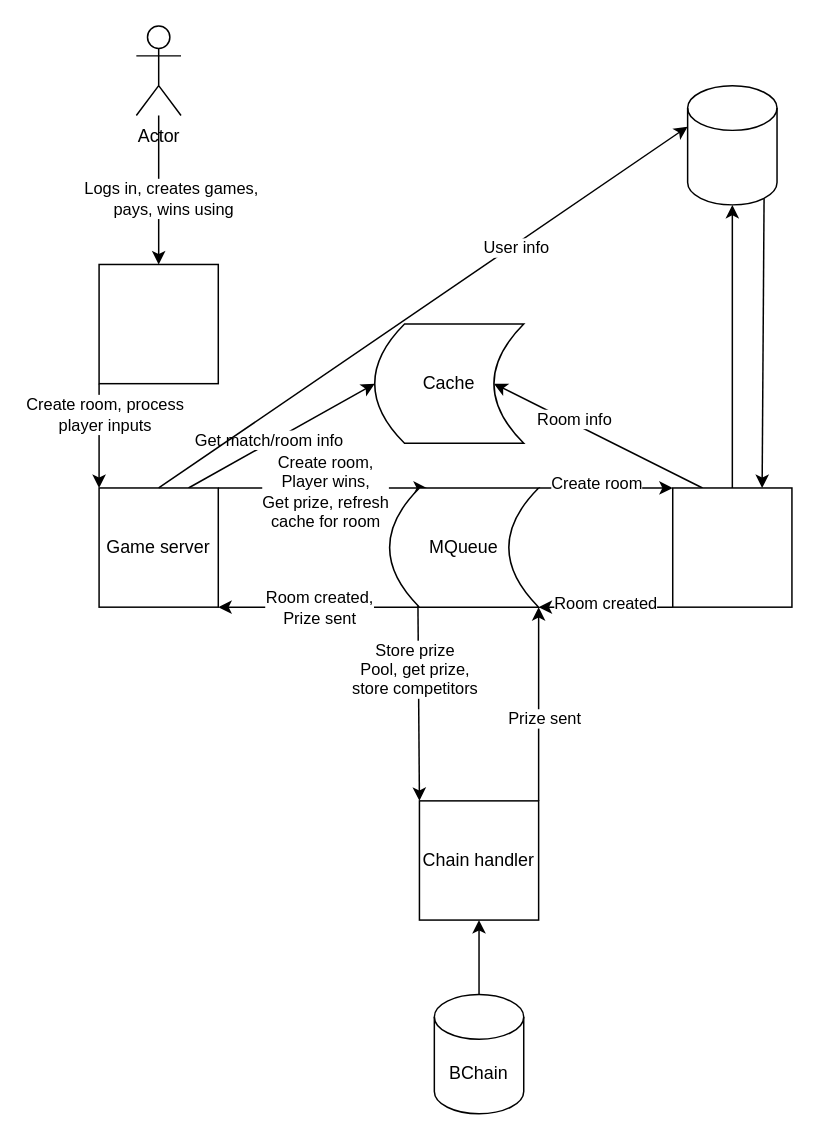
Some shapes in this 818 by 1140 pixel diagram are drawn without their labels. The centre of each missing label's shape, as x and y in pixels:
"DB" goes at (731,144).
"Game UI" goes at (158,323).
"Room Handler" goes at (731,546).
